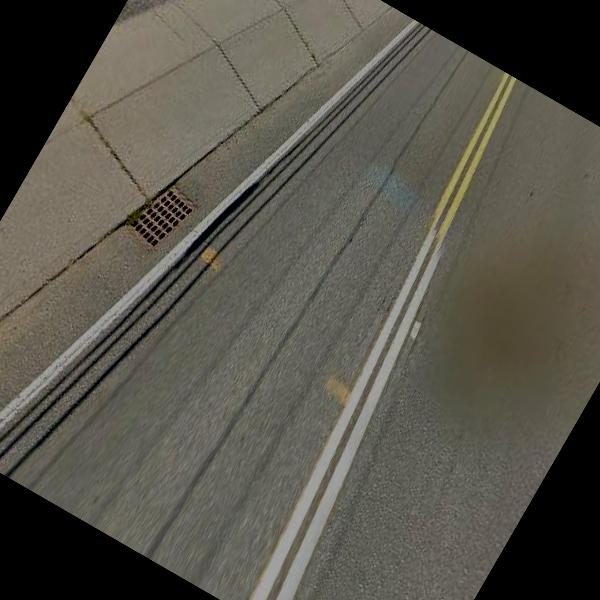manhole: (114, 158, 212, 276)
